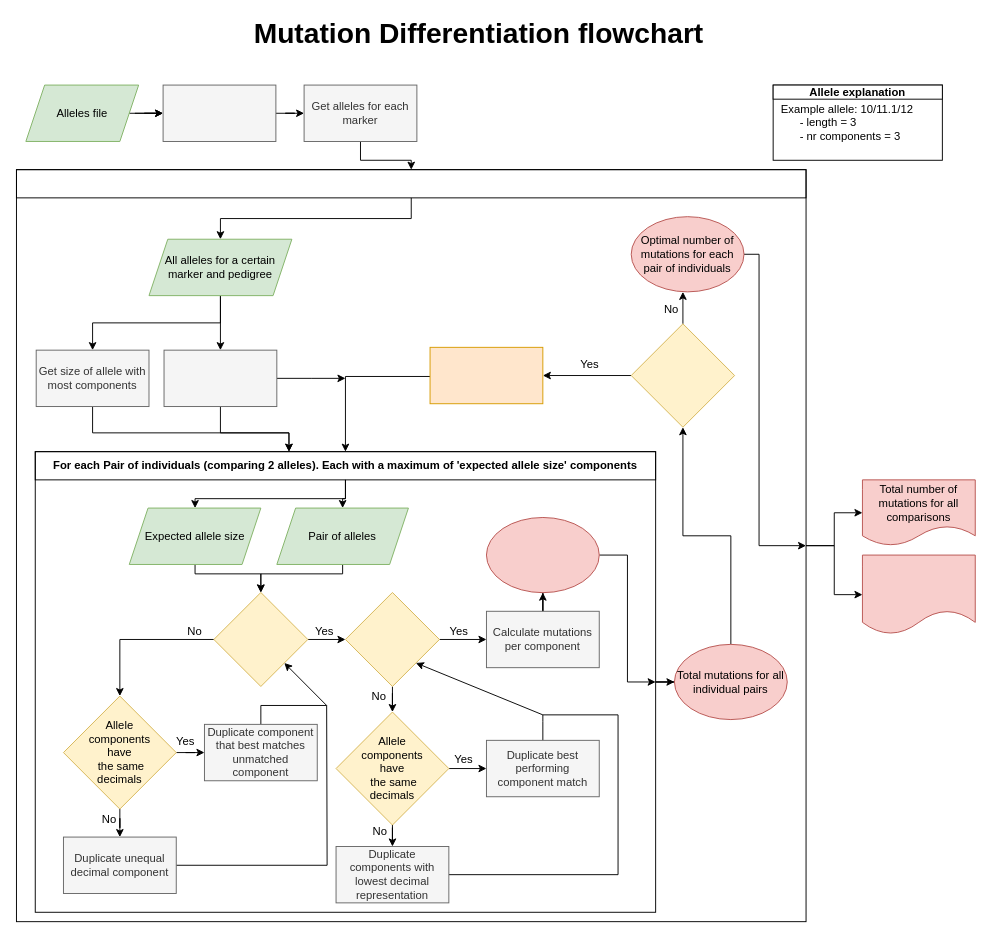
The diagram is 992 pixels wide and 938 high, and some of its shapes have lost their labels. The shapes that lost their labels are listed below. From the top down, each one's centre as x and y in pixels, then its label:
At pixel 219 112: "Get alleles for each pedigree".
At pixel 411 183: "For each pedigree".
At pixel 220 378: "Get all pairs of Individuals".
At pixel 486 375: "Increase expected allele size by one".
At pixel 682 375: "Lower number of total mutations".
At pixel 542 555: "Mutations per component".
At pixel 918 594: "Total number of mutations for each pair of individuals per pedigree".
At pixel 260 639: "Alleles are the same size".
At pixel 392 639: "Alleles are the expected size".
